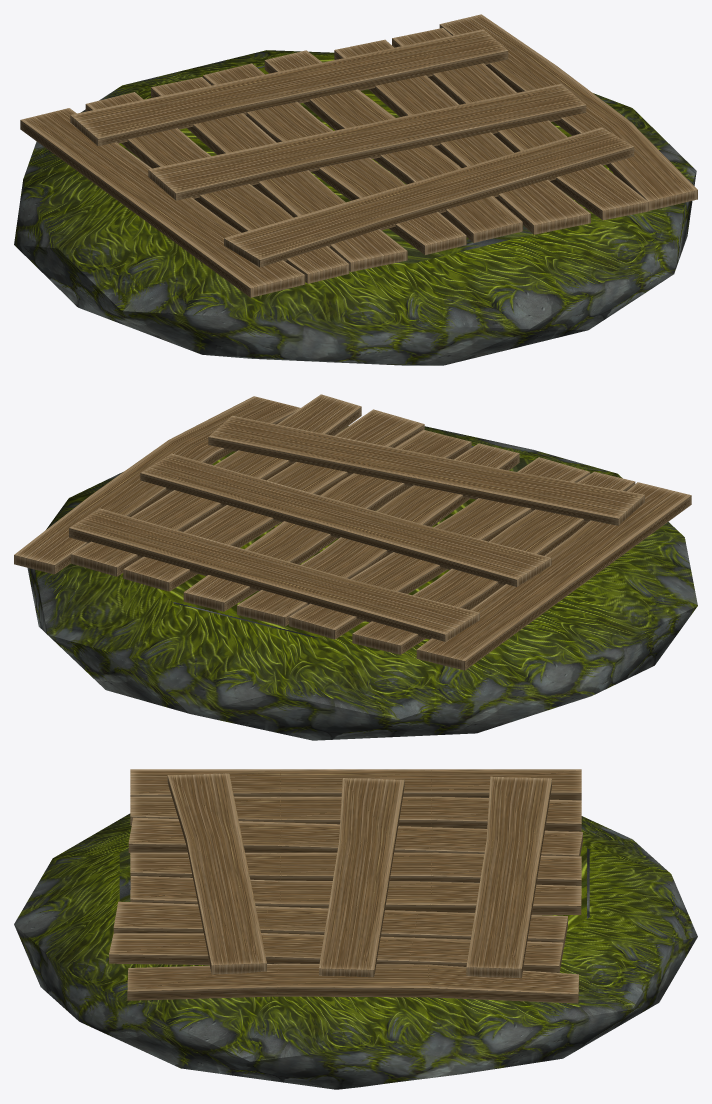
Rendered from platform rock-wood.fbx.
3 views of the same model, one above another, from view 1: azimuth 30°, elevation 25°; view 2: azimuth 150°, elevation 25°; view 3: azimuth 270°, elevation 25° (orthographic). The views are drawn at different scales.
Visible parts, largest first — view 1: platform_rock_wood_LOD0; view 2: platform_rock_wood_LOD0; view 3: platform_rock_wood_LOD0.
Part boxes in pixels (x1,y1,x2,y2): platform_rock_wood_LOD0: [14, 14, 697, 365]; platform_rock_wood_LOD0: [14, 394, 697, 740]; platform_rock_wood_LOD0: [14, 769, 697, 1089].
Size of what is drawn, in the model's own units: 758 by 142 by 797.
